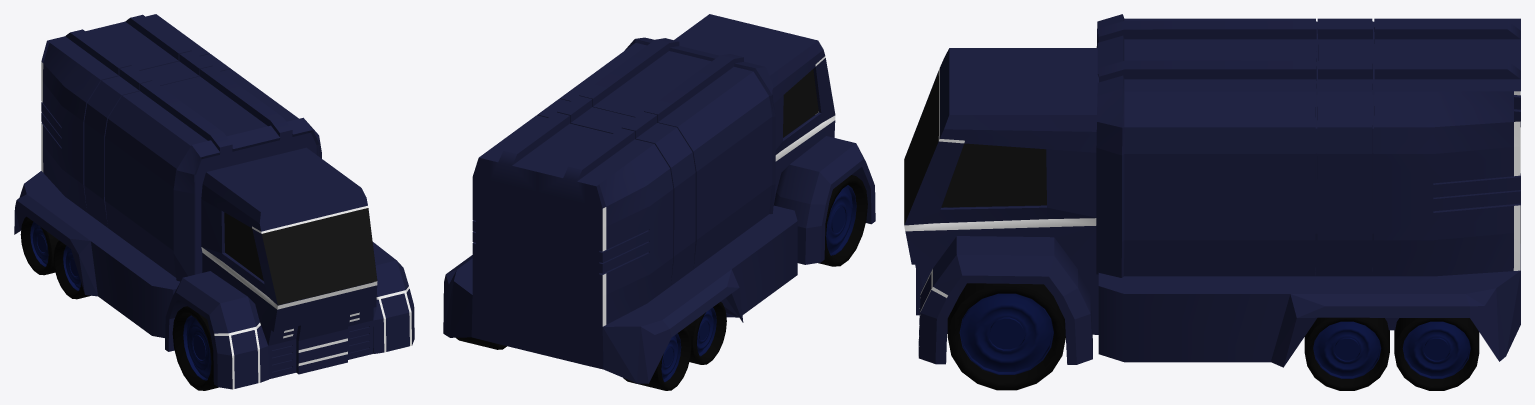
The model's file is obstacle_truck.fbx.
The picture shows the model from 3 angles, left to right: view 1: azimuth 30°, elevation 25°; view 2: azimuth 150°, elevation 25°; view 3: azimuth 270°, elevation 25°; orthographic projection. The views are drawn at different scales.
Parts seen in each view (by area): view 1: truck_base, truck_glass, truck_tire, truck_neon; view 2: truck_base, truck_tire, truck_glass, truck_neon; view 3: truck_base, truck_tire, truck_glass, truck_neon.
Part boxes in pixels (left/top/right/bottom): truck_base: left=14, top=14, right=414, bottom=389; truck_glass: left=224, top=208, right=377, bottom=305; truck_tire: left=20, top=216, right=218, bottom=390; truck_neon: left=41, top=61, right=411, bottom=389; truck_base: left=443, top=14, right=875, bottom=383; truck_tire: left=456, top=175, right=867, bottom=390; truck_glass: left=783, top=69, right=818, bottom=137; truck_neon: left=602, top=56, right=835, bottom=326; truck_base: left=904, top=14, right=1520, bottom=367; truck_tire: left=947, top=283, right=1479, bottom=390; truck_glass: left=904, top=72, right=1046, bottom=224; truck_neon: left=904, top=68, right=1520, bottom=357.
Size of the model in its own units: 525 by 492 by 975.
